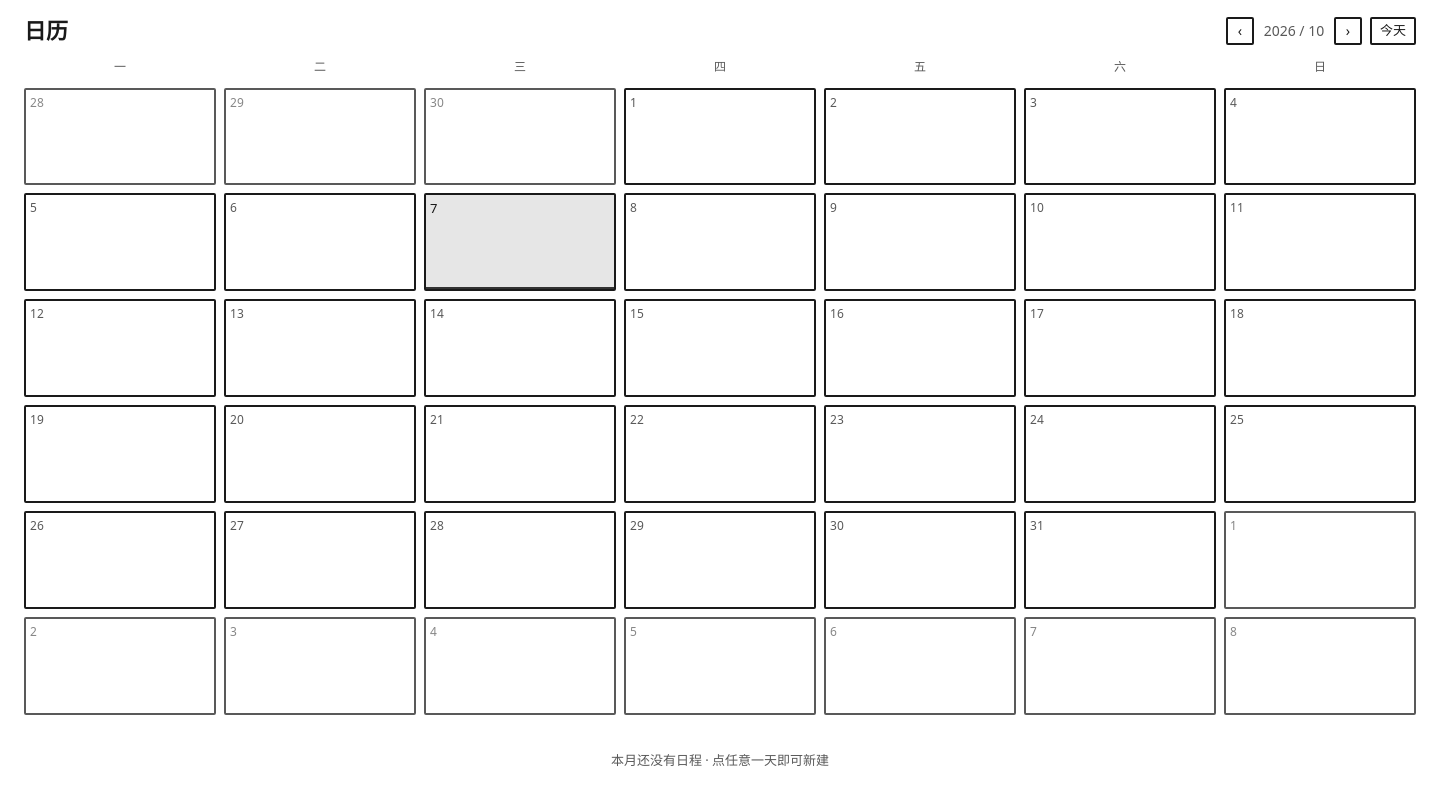
T97-01 日历页 · 新建 / 编辑 / 删除 › ④ 点日格开表单：标题必填（空标题不落库并提示），填好保存 → 网格出现 .calendar-chip
Click the 1st cell "7": x=520, y=242 [424, 194, 616, 291]
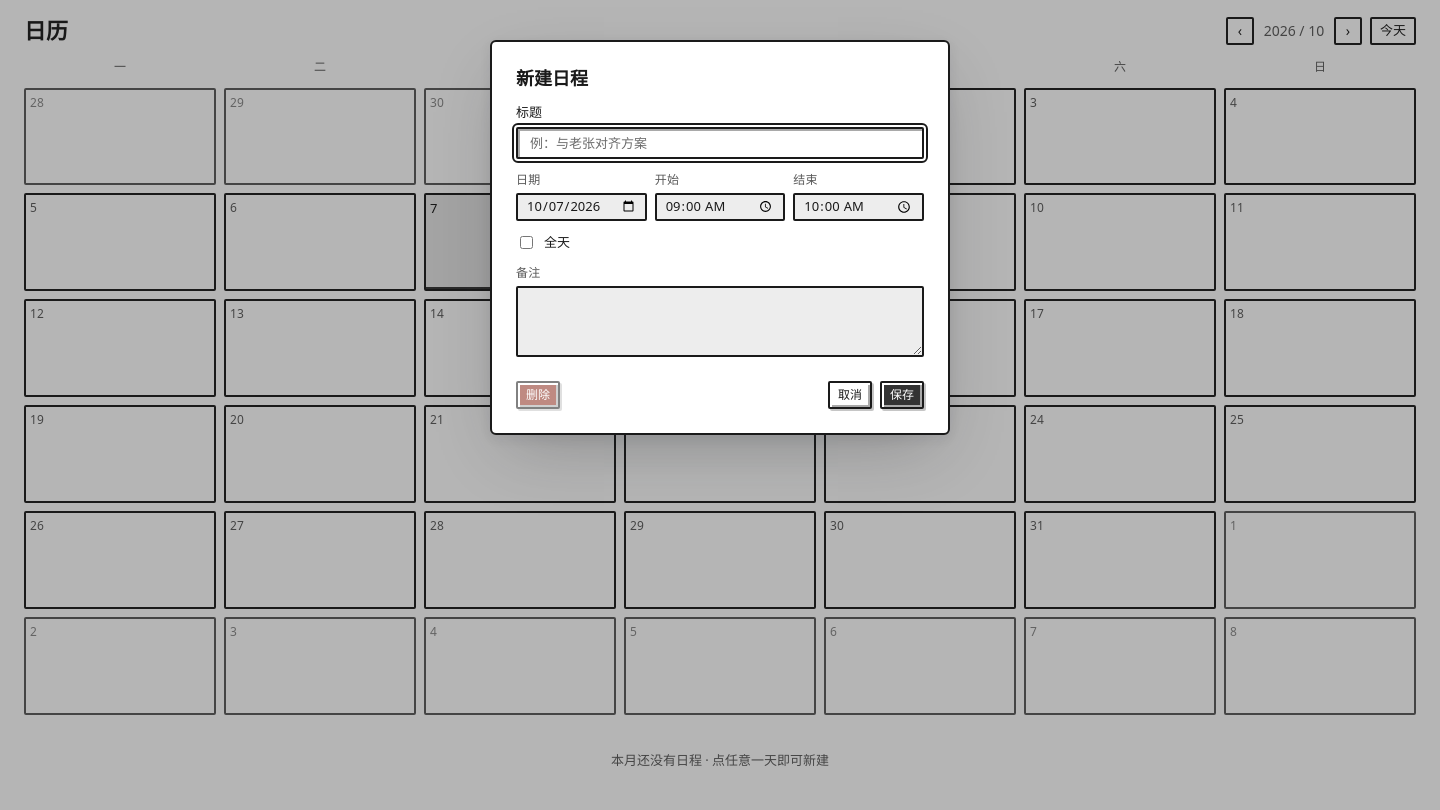
Expected: the field with test id "calendar-event-title" is empty, [516, 127, 924, 159]
Note: 空标题：不落库，给出标题必填提示
Click the button with test id "calendar-event-save": x=902, y=395 [880, 381, 924, 409]
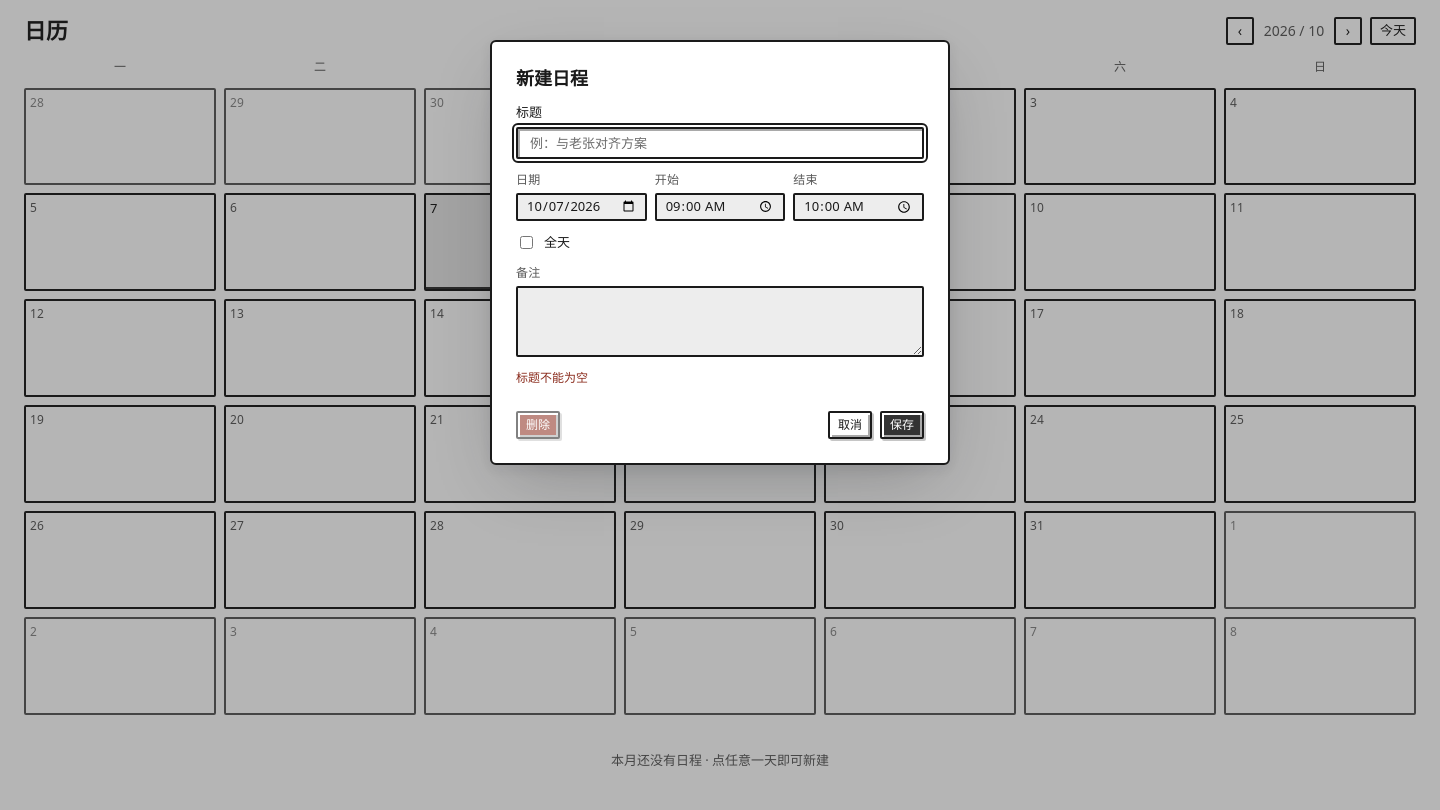
Expected: the message with test id "calendar-event-error" reads "标题不能为空", [516, 369, 588, 386]
In the field with test id "calendar-event-title": x=720, y=143 [516, 127, 924, 159], type "与老张对齐方案"
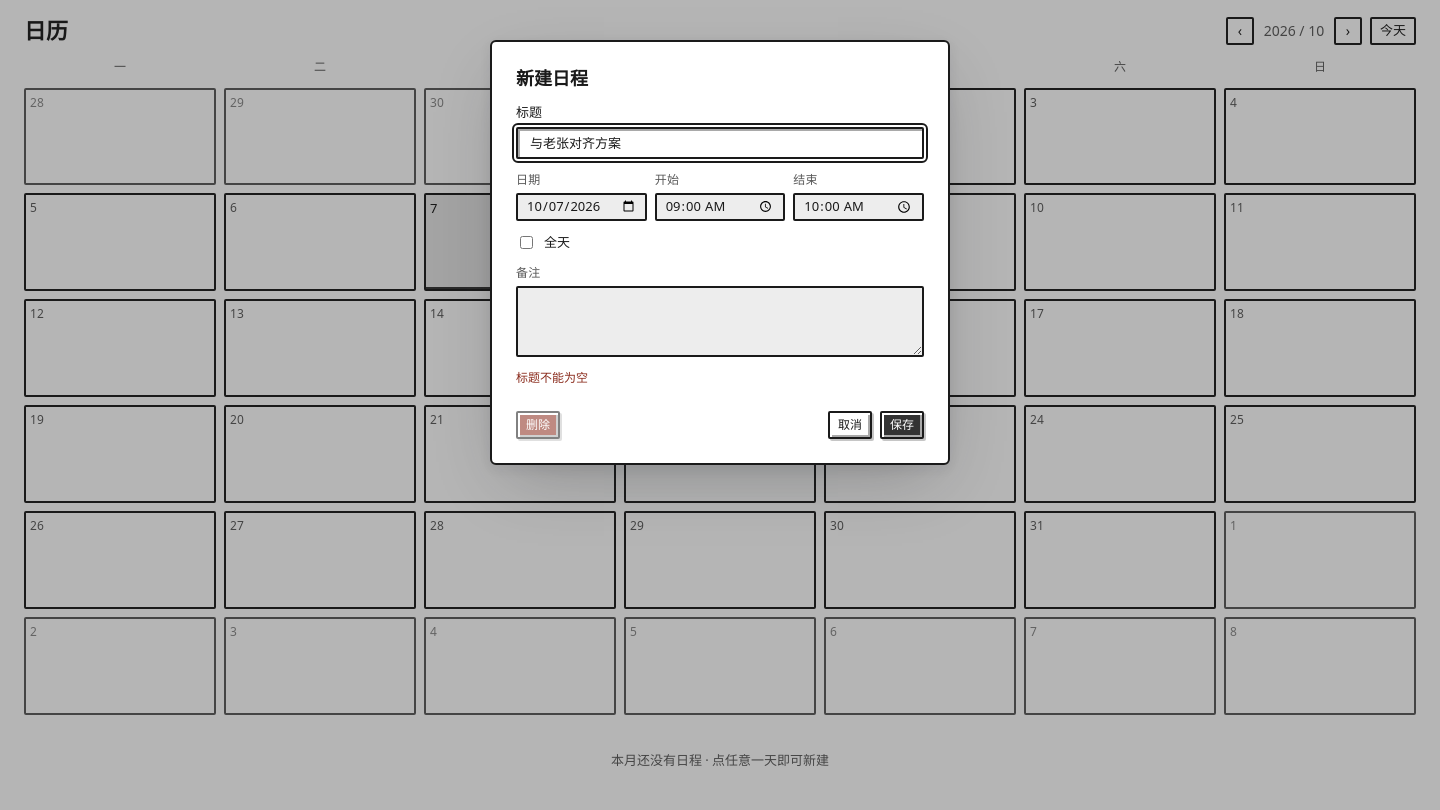
Click the button with test id "calendar-event-save": x=902, y=425 [880, 411, 924, 439]
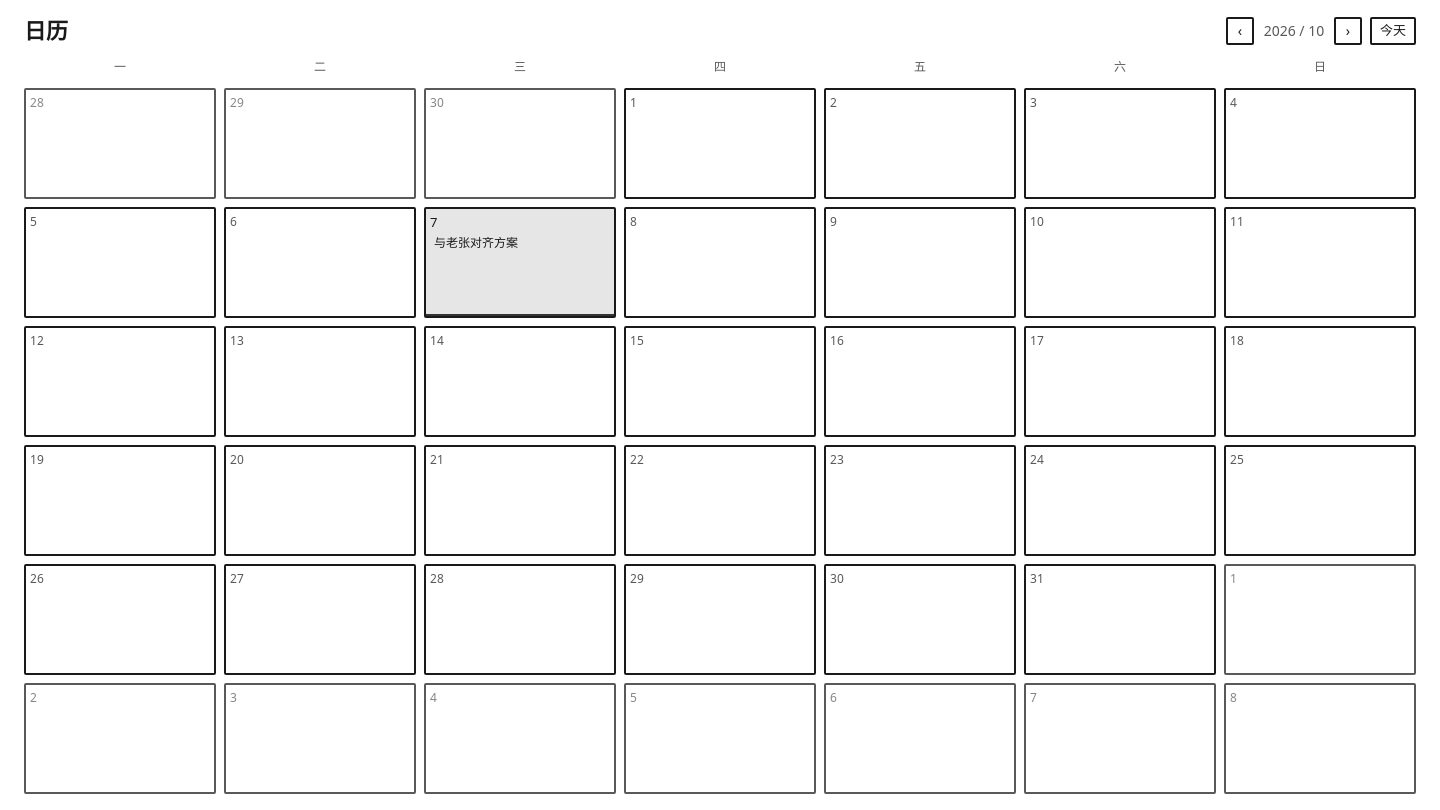
Expected: the field with test id "calendar-event-title" is gone
Expected: the text with test id "calendar-empty" is gone
